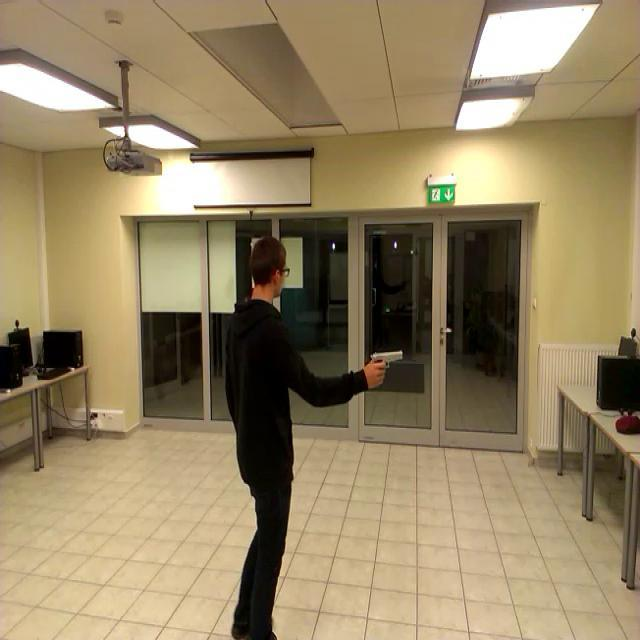Gun: (370, 349, 402, 381)
